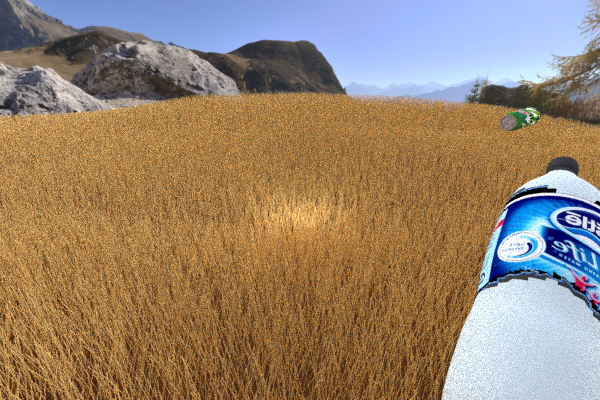Plastic Bottle: (441, 156, 600, 400), (500, 107, 539, 131)
